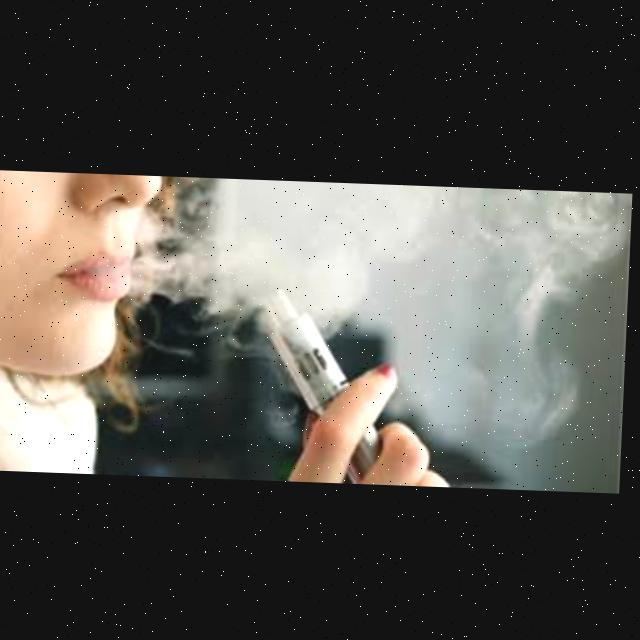vape: (259, 288, 391, 482)
